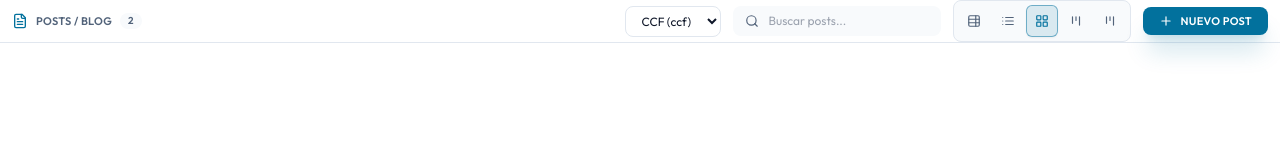
CmsPostsManagement › filtra por búsqueda
Type "oracion" into the field with placeholder "Buscar posts...".
click(836, 21); type("oracion")  # box [732, 6, 940, 36]
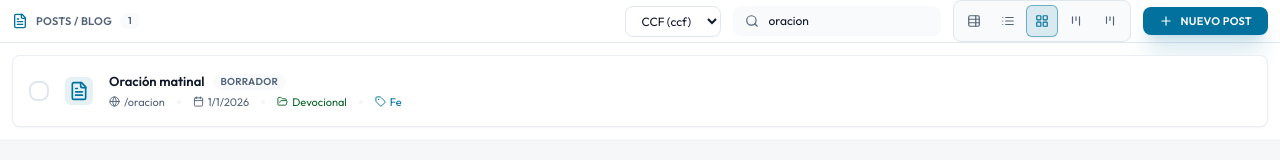
expect the heading "Oración matinal" is shown: met, box [109, 72, 204, 92]
